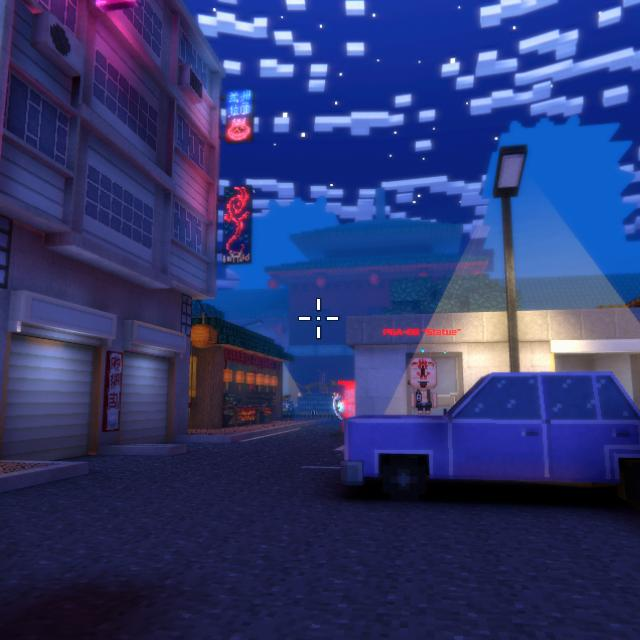Enemy: (345, 389, 355, 417)
